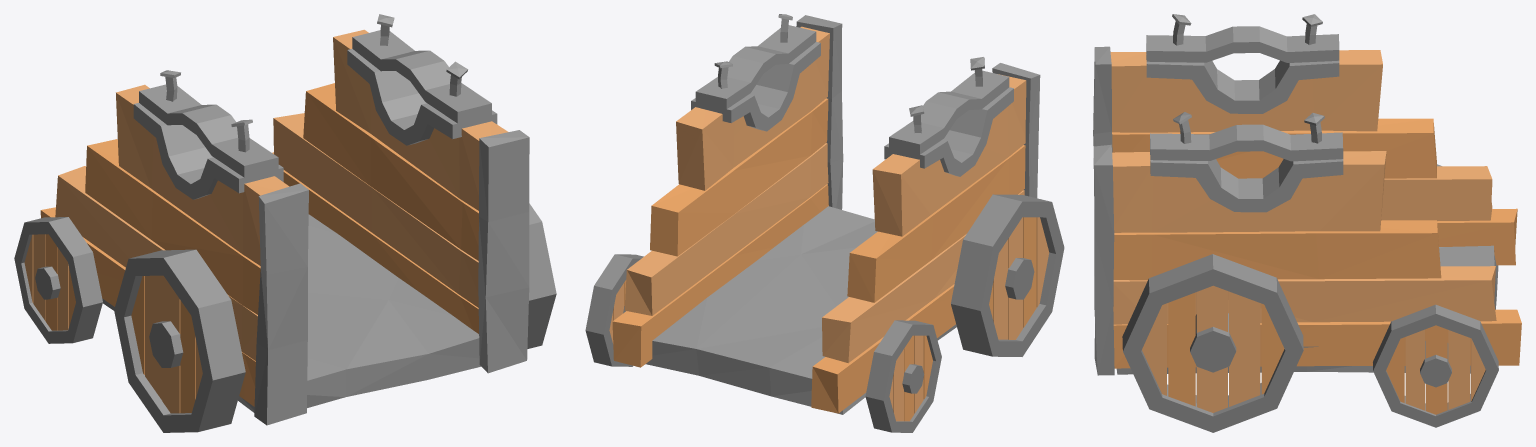
Rendered from cannon.01.fbx.
The picture shows the model from 3 angles, left to right: view 1: azimuth 30°, elevation 25°; view 2: azimuth 150°, elevation 25°; view 3: azimuth 270°, elevation 25°; orthographic projection. The views are drawn at different scales.
Parts seen in each view (by area): view 1: cannon.01; view 2: cannon.01; view 3: cannon.01.
Boxes of the visible parts, x1,y1,x2,y2 form: cannon.01: (14,14,556,432); cannon.01: (585,14,1064,432); cannon.01: (1093,14,1521,432).
Bounding box in the file's own units: 1.22 × 1.03 × 1.38.
